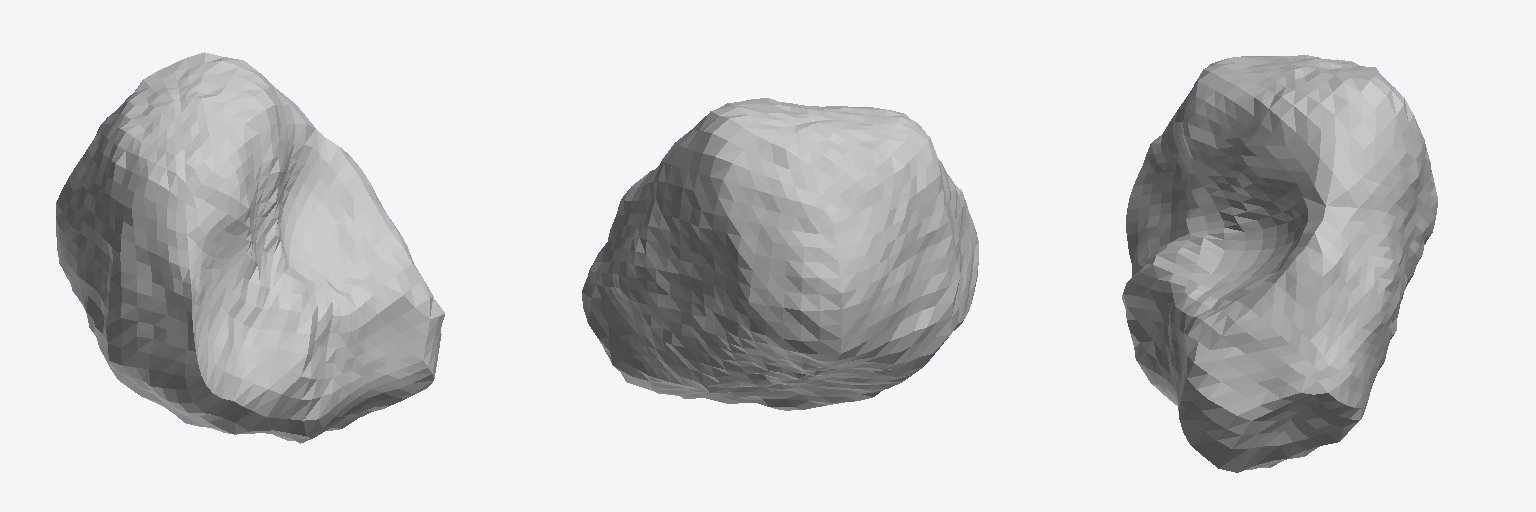
File: Asteroid4.obj
3 renders of one model, left to right at view 1: azimuth 30°, elevation 25°; view 2: azimuth 150°, elevation 25°; view 3: azimuth 270°, elevation 25°, orthographic.
Parts seen in each view (by area): view 1: rock.007; view 2: rock.007; view 3: rock.007.
Part boxes in pixels (bbox=[...]): rock.007: bbox=[56, 52, 444, 443]; rock.007: bbox=[582, 98, 978, 410]; rock.007: bbox=[1122, 55, 1437, 472].
Bounding box in the file's own units: 1.21 × 1.19 × 0.9866.